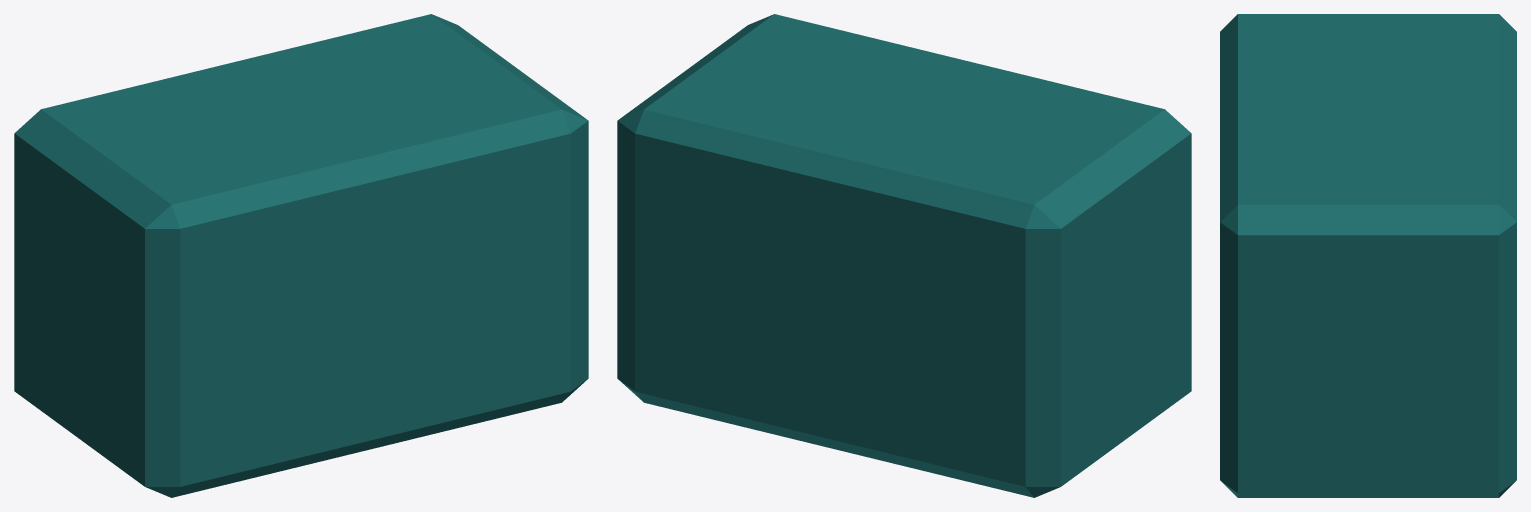
Rendered from na_dumpster.glb.
3 renders of one model, left to right at view 1: azimuth 30°, elevation 25°; view 2: azimuth 150°, elevation 25°; view 3: azimuth 270°, elevation 25°, orthographic.
Parts seen in each view (by area): view 1: Cube; view 2: Cube; view 3: Cube.
Part boxes in pixels (x1,y1,x2,y2): Cube: (14, 14, 588, 497); Cube: (617, 14, 1191, 497); Cube: (1220, 14, 1516, 497).
Bounding box in the file's own units: 1.9 × 1.2 × 1.1.
